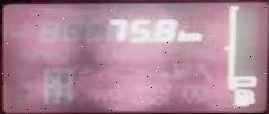-: (147, 35, 152, 41)
5: (128, 16, 147, 41)
7: (107, 15, 125, 41)
8: (152, 16, 173, 41)
X: (185, 31, 202, 41), (177, 29, 185, 40)
